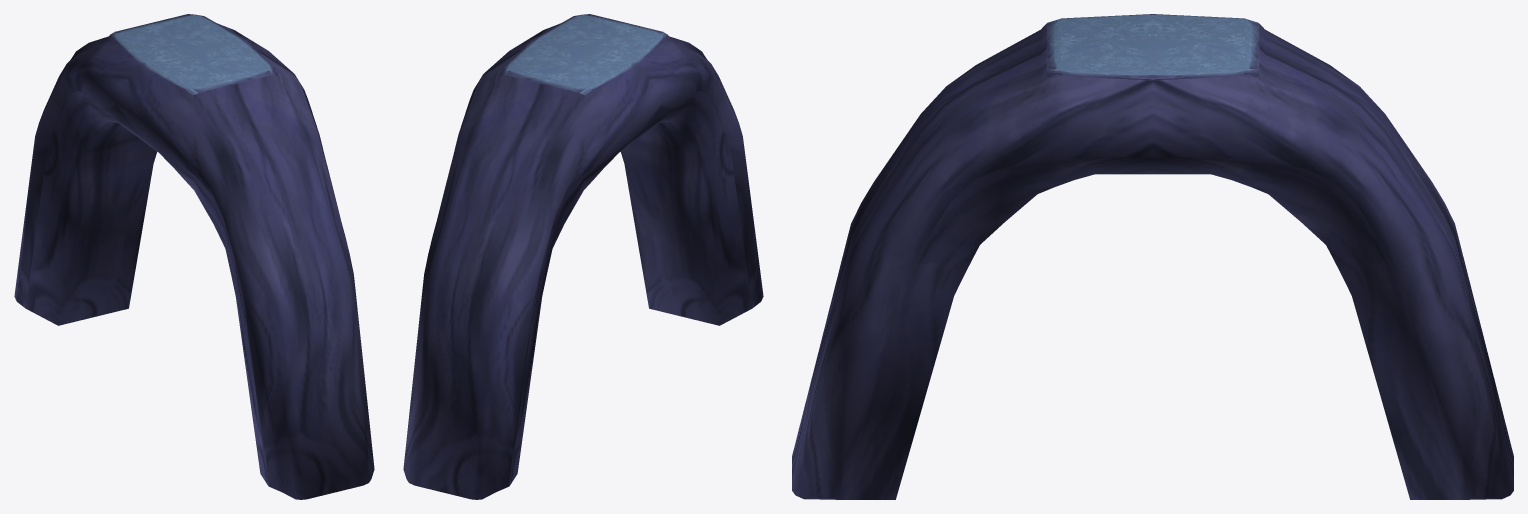
The model's file is branch-Platform.fbx.
3 views of the same model, side by side, from view 1: azimuth 30°, elevation 25°; view 2: azimuth 150°, elevation 25°; view 3: azimuth 270°, elevation 25° (orthographic). The views are drawn at different scales.
Visible parts, largest first — view 1: Cube.001; view 2: Cube.001; view 3: Cube.001.
Part boxes in pixels (x1,y1,x2,y2): Cube.001: [14, 14, 374, 499]; Cube.001: [403, 14, 763, 499]; Cube.001: [792, 14, 1513, 499].
Bounding box in the file's own units: 619 × 1901 × 1258.
Materials: 1 (1 with a texture image).
